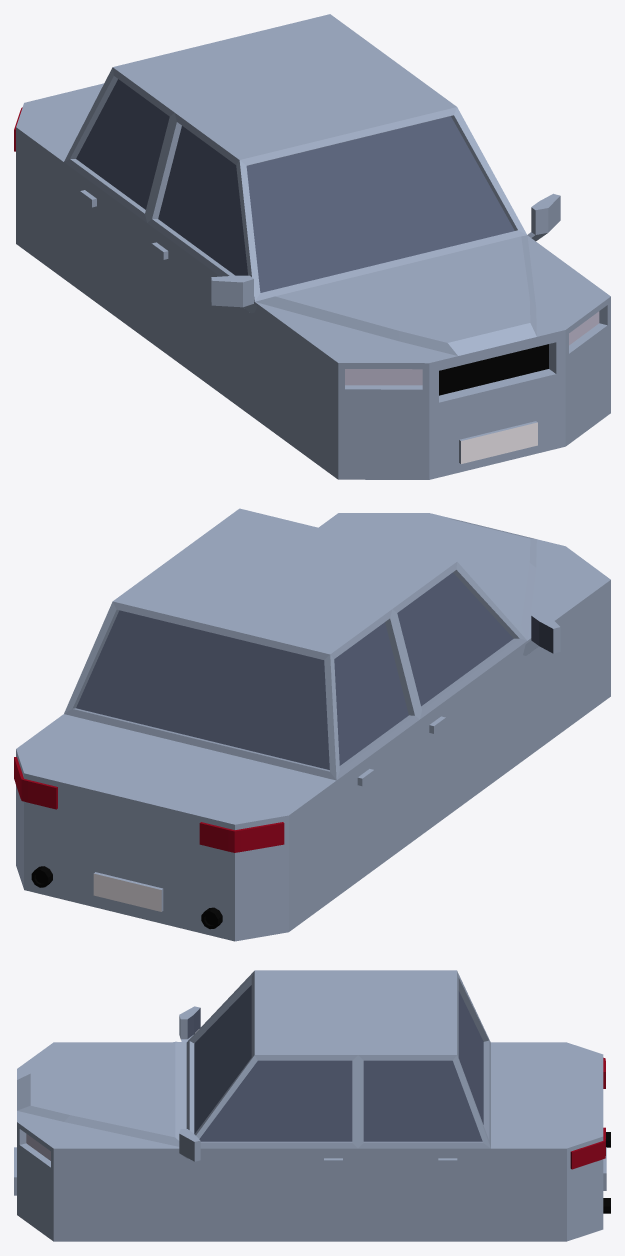
The model's file is Sedan.glb.
3 views of the same model, one above another, from view 1: azimuth 30°, elevation 25°; view 2: azimuth 150°, elevation 25°; view 3: azimuth 270°, elevation 25° (orthographic). The views are drawn at different scales.
Visible parts, largest first — view 1: Sedan; view 2: Sedan; view 3: Sedan.
Part boxes in pixels (<box>): Sedan: <box>14,14,610,479</box>; Sedan: <box>14,508,610,941</box>; Sedan: <box>14,970,610,1241</box>.
Size of the model in its own units: 281 by 181 by 523.
